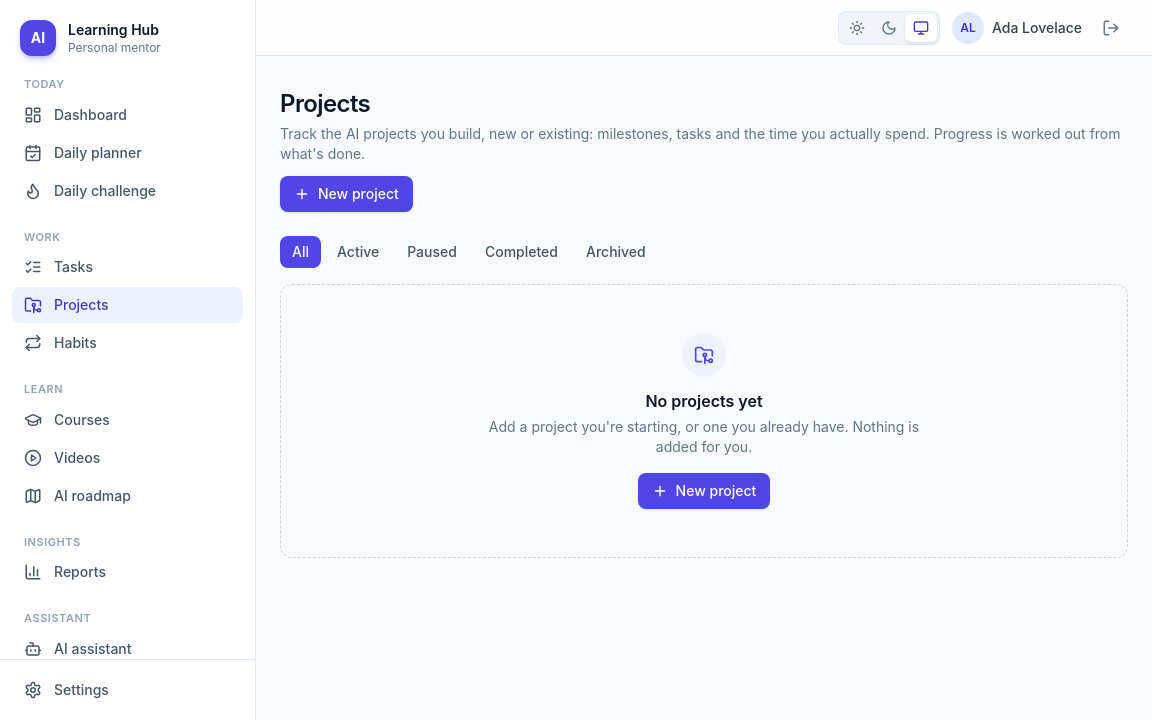
Test: creating a project › shows the AI's problem and asks for a source first
Click the 1st button "New project": (346, 194) [280, 176, 413, 212]
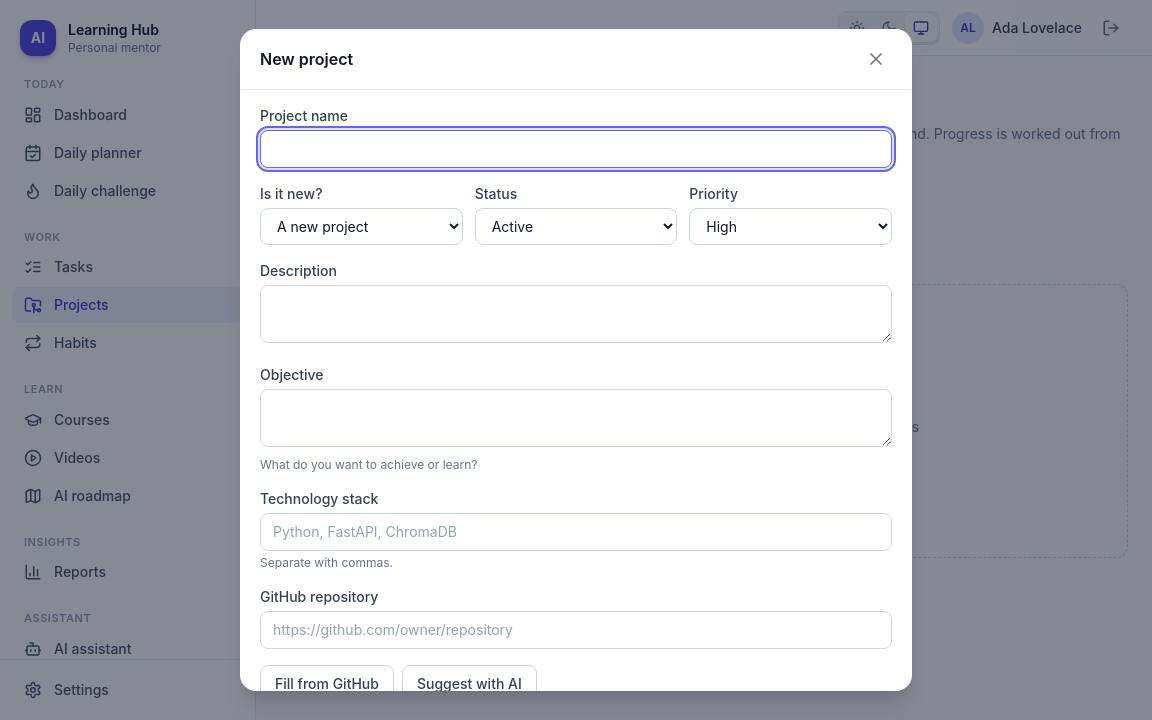
Click the button "Suggest with AI": (469, 684) [402, 665, 537, 703]
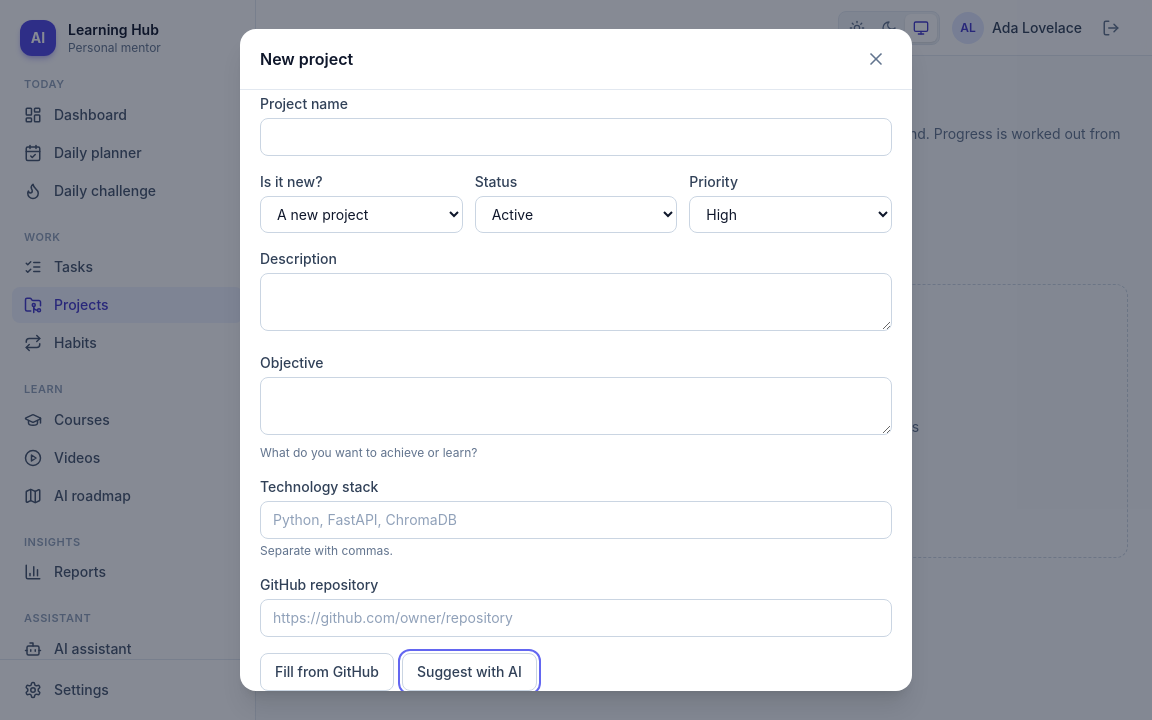
In the text box labelled "Description": (576, 302) [260, 273, 892, 331], type "A chatbot"
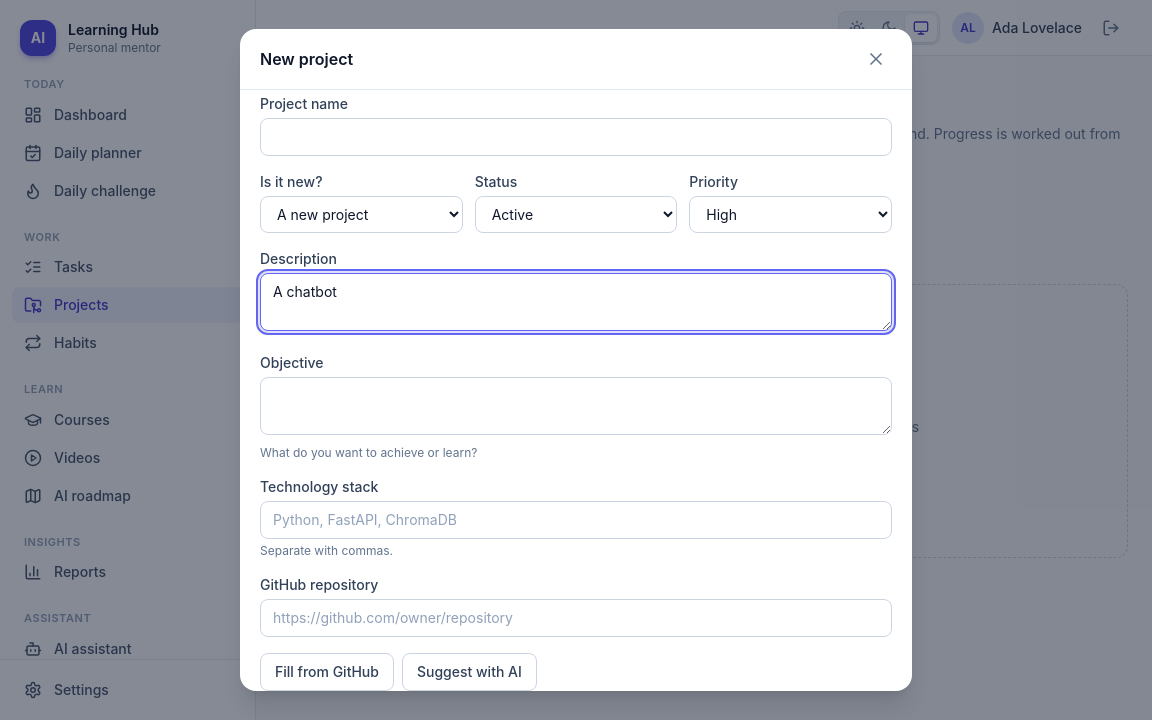
Click the button "Suggest with AI": (469, 672) [402, 653, 537, 691]
(page scrolled)
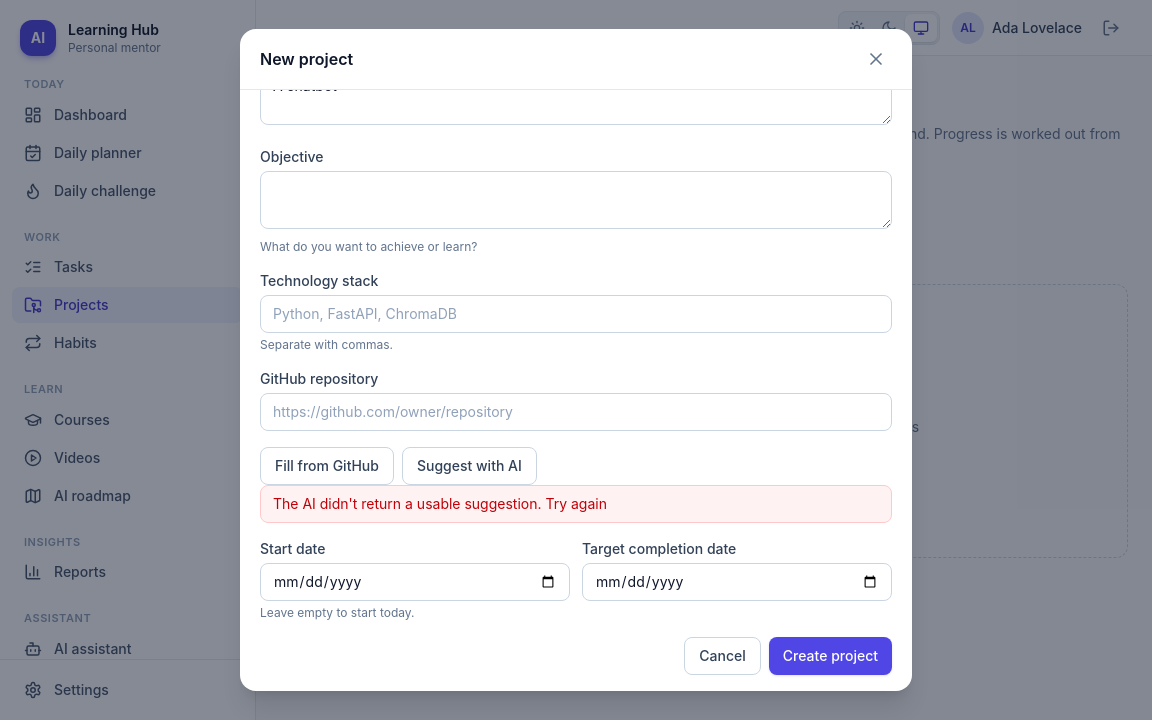
Check: the message shows "usable suggestion", box [273, 495, 607, 512]
